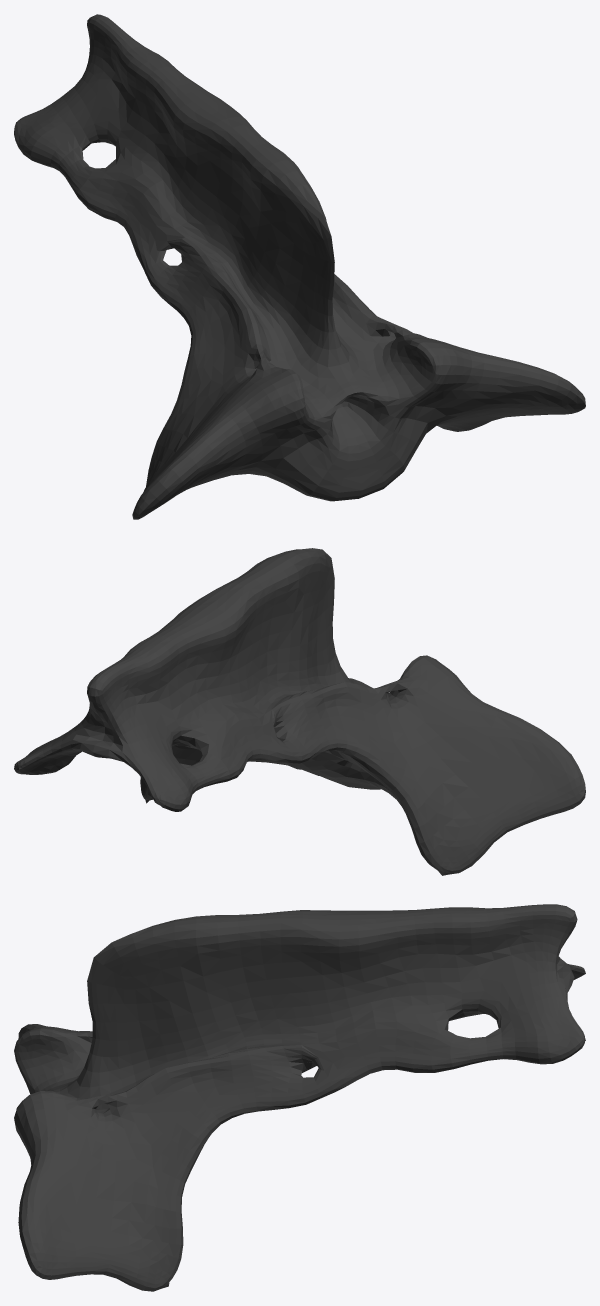
Rendered from b_sacrum_LO.glb.
3 renders of one model, top to bottom at view 1: azimuth 30°, elevation 25°; view 2: azimuth 150°, elevation 25°; view 3: azimuth 270°, elevation 25°, orthographic.
Parts seen in each view (by area): view 1: b_sacrum_LO; view 2: b_sacrum_LO; view 3: b_sacrum_LO.
Boxes of the visible parts, x1,y1,x2,y2 form: b_sacrum_LO: (14, 14, 585, 519); b_sacrum_LO: (14, 548, 585, 875); b_sacrum_LO: (14, 904, 585, 1291).
Size of the model in its own units: 0.00244 by 0.00159 by 0.00266.
Materials: 1 (1 with a texture image).
